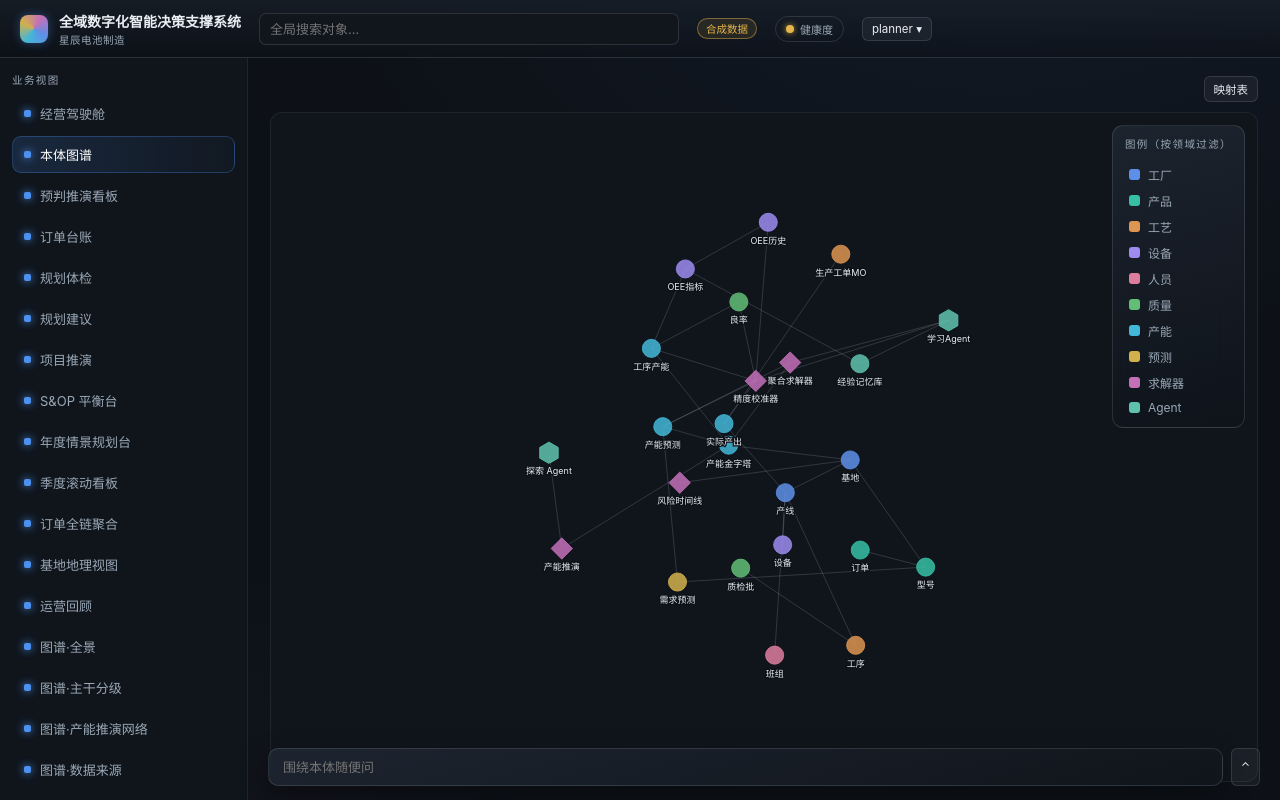
Test: F27 · 业务建模映射表（§7.20 图谱内功能） › act.export 关闭 → 导出按钮消失（映射表本身仍可用）
Click the button with test id "graph-mapping-btn". click: x=1231, y=89
box: [1204,76,1258,102]
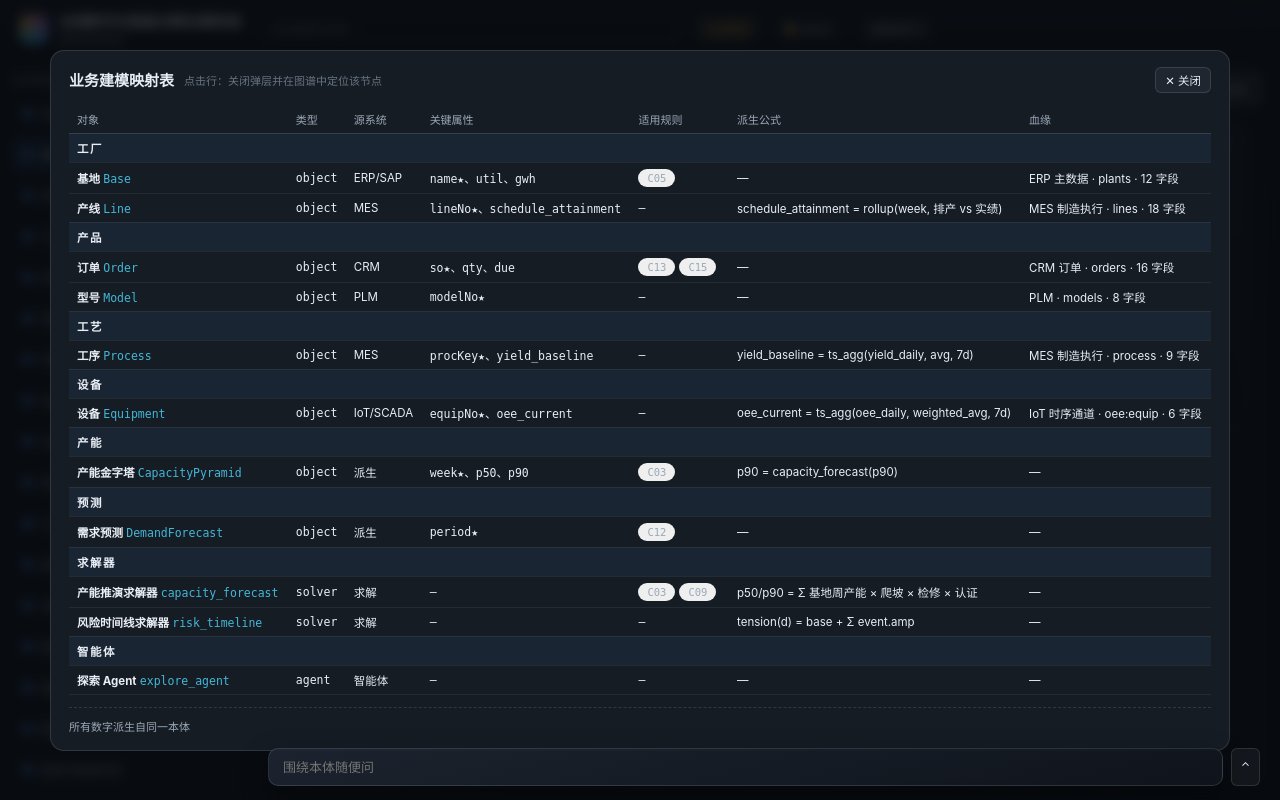
Expected: the table with test id "mapping-table" is shown
